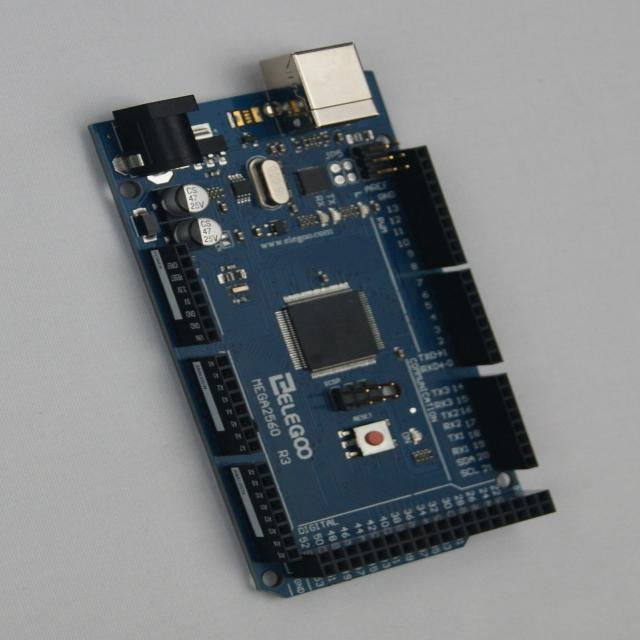Arduino Mega 2560 -Blue-: (90, 45, 554, 597)
